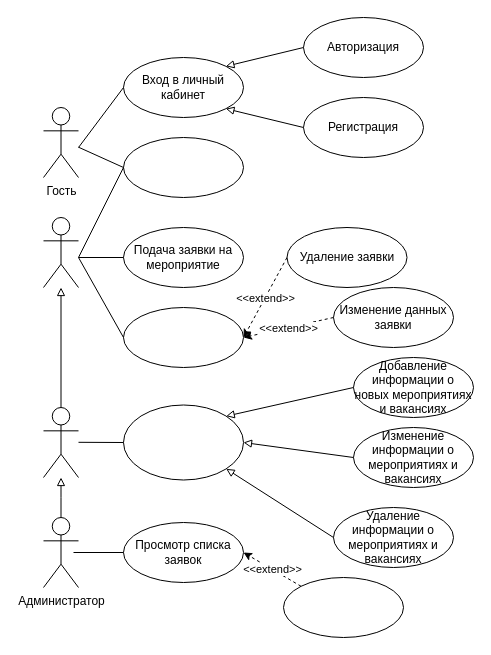
This 491x655 diagram has some shape labels left out. Each missing label, with the centre of its shape:
"Менеджер" belongs at (60,442).
"Обработка заявок" belongs at (343,607).
"Пользователь" belongs at (60,252).
"Просмотр заявки" belongs at (183,337).
"Просмотр списка мероприятий и вакансий" belongs at (183,167).
"Управление мероприятиями и вакансиями" belongs at (183,442).
